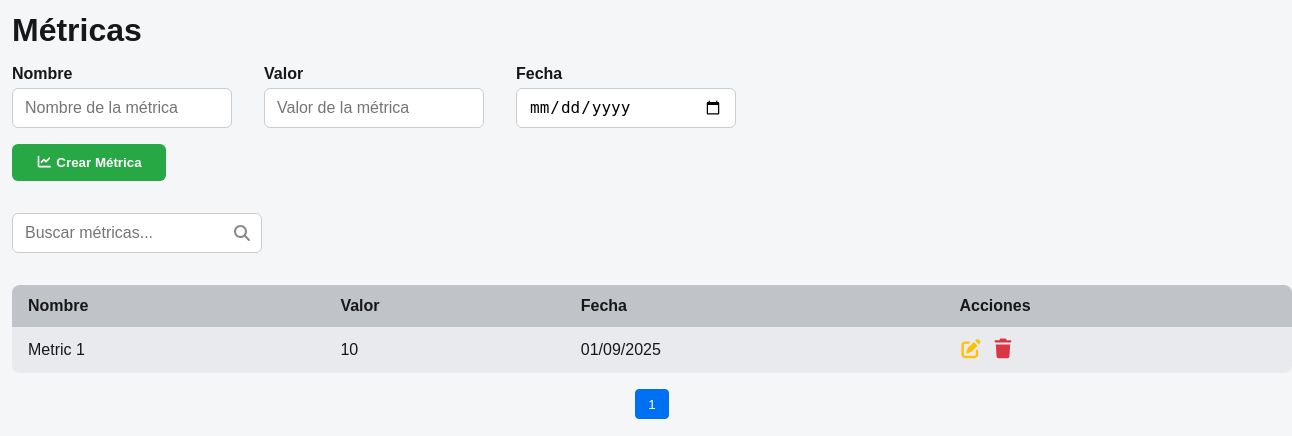
Test: MetricsPage › edits a metric
Click the button named "editar metric 1": {"x": 972, "y": 350} [960,339,984,361]
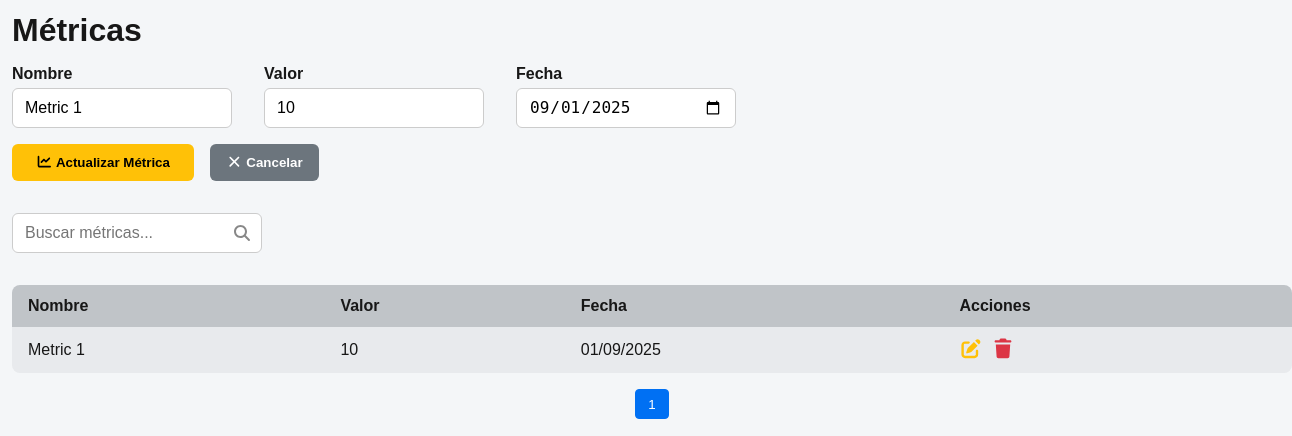
Replace the text in the field labelled "Nombre" with "Metric 1 updated": {"x": 122, "y": 108} [12,88,232,128]
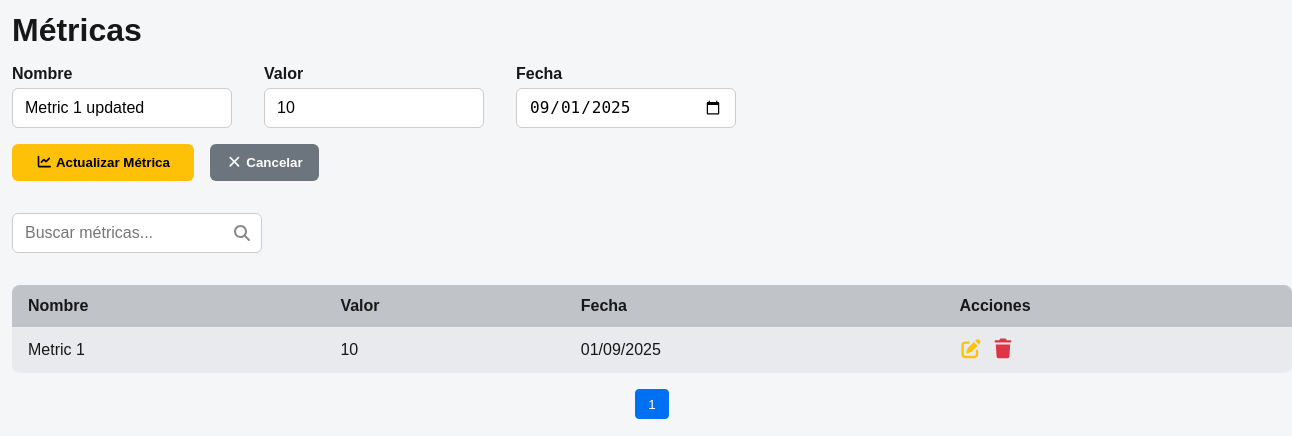
Replace the text in the number field labelled "Valor" with "15": {"x": 374, "y": 108} [264,88,484,128]
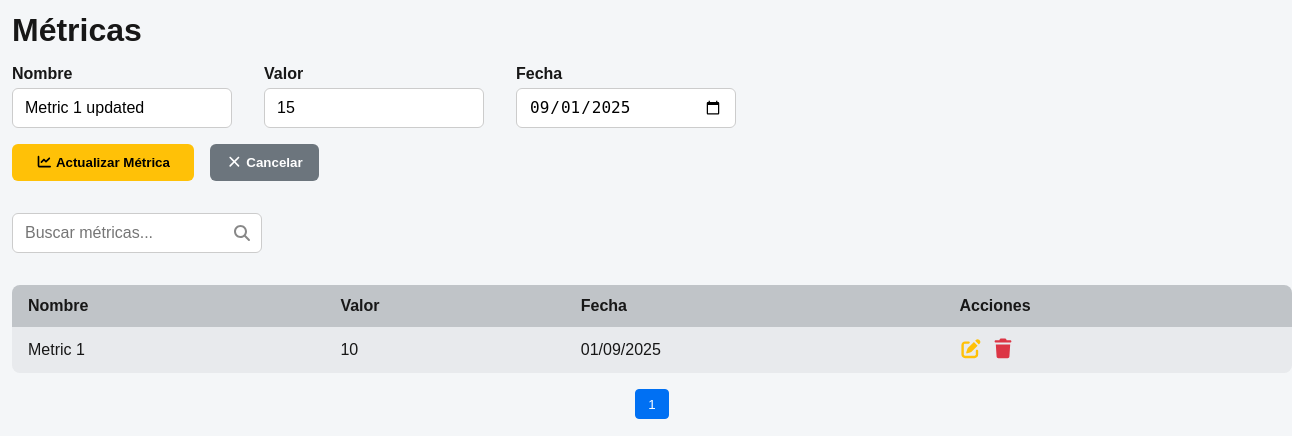
In the date field labelled "Fecha": {"x": 626, "y": 108} [516,88,736,128], type "2025-09-02"
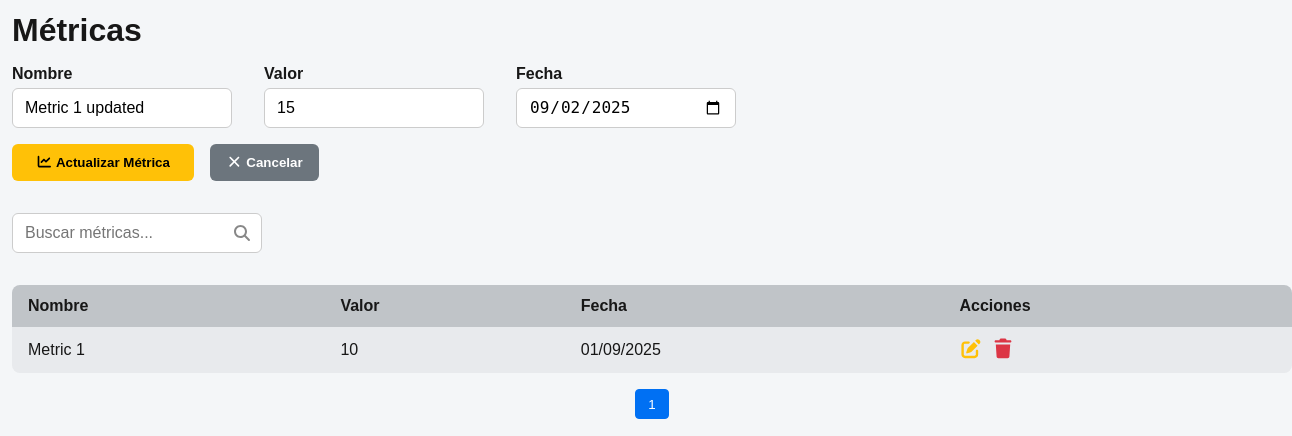
Click the button "Actualizar Métrica": {"x": 103, "y": 162} [12,144,194,181]
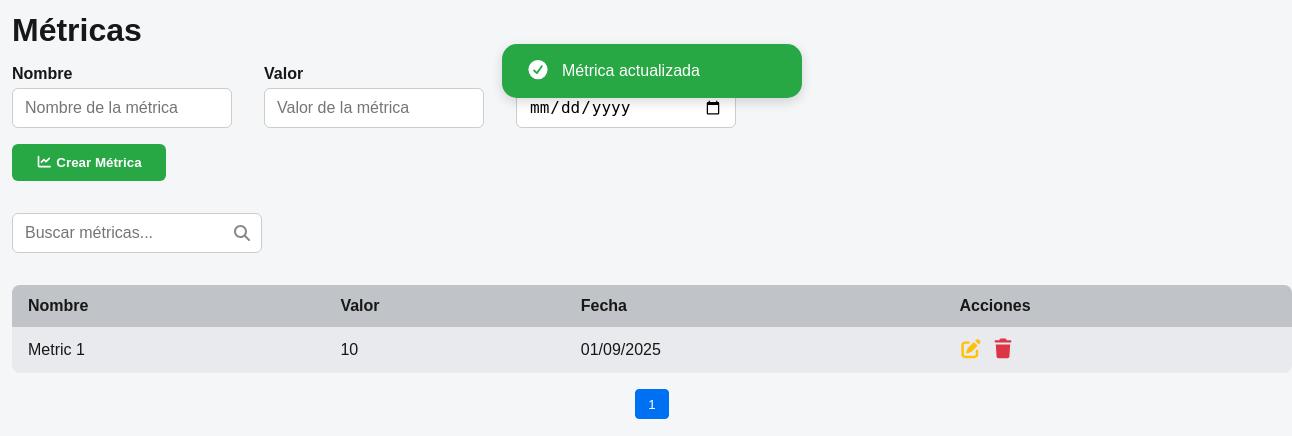
Expected: the text "Métrica actualizada" is shown, [562,62,700,79]
